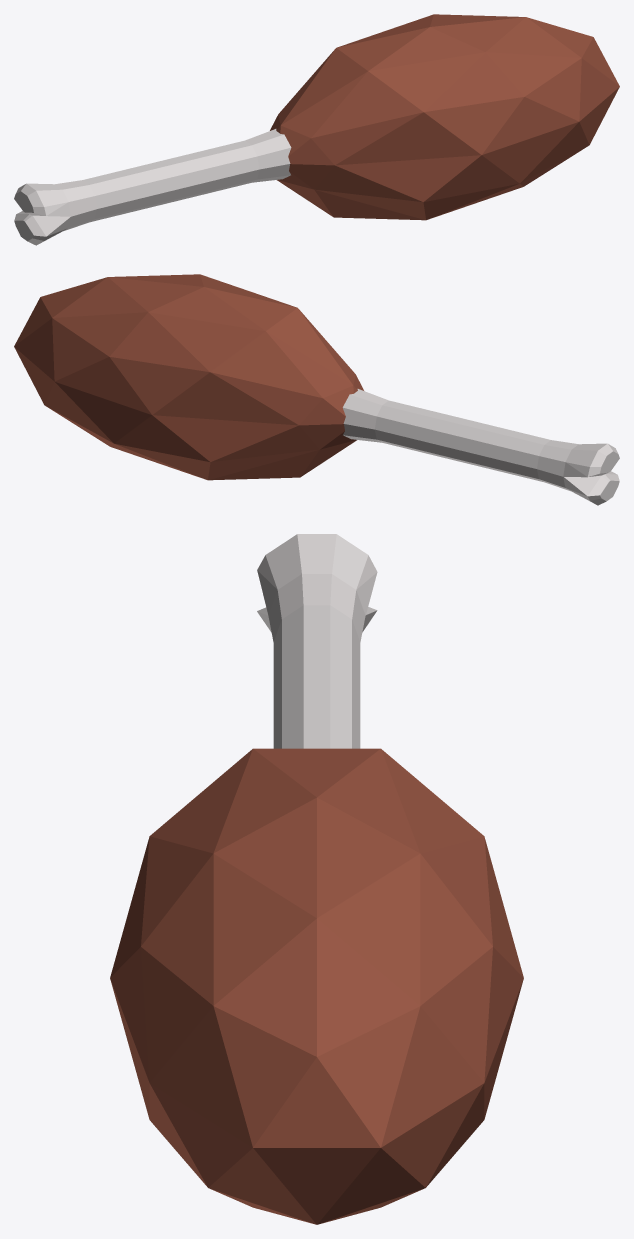
Rendered from Drumstick.fbx.
3 views of the same model, one above another, from view 1: azimuth 30°, elevation 25°; view 2: azimuth 150°, elevation 25°; view 3: azimuth 270°, elevation 25° (orthographic). The views are drawn at different scales.
Parts seen in each view (by area): view 1: Icosphere, Cylinder.002; view 2: Icosphere, Cylinder.002; view 3: Icosphere, Cylinder.002.
Part boxes in pixels (bbox=[...]): Icosphere: bbox=[270, 14, 619, 220]; Cylinder.002: bbox=[14, 129, 291, 245]; Icosphere: bbox=[14, 274, 363, 480]; Cylinder.002: bbox=[342, 389, 619, 505]; Icosphere: bbox=[110, 748, 523, 1224]; Cylinder.002: bbox=[257, 534, 377, 748].
Size of the model in its own units: 134 by 40.01 by 41.57.
